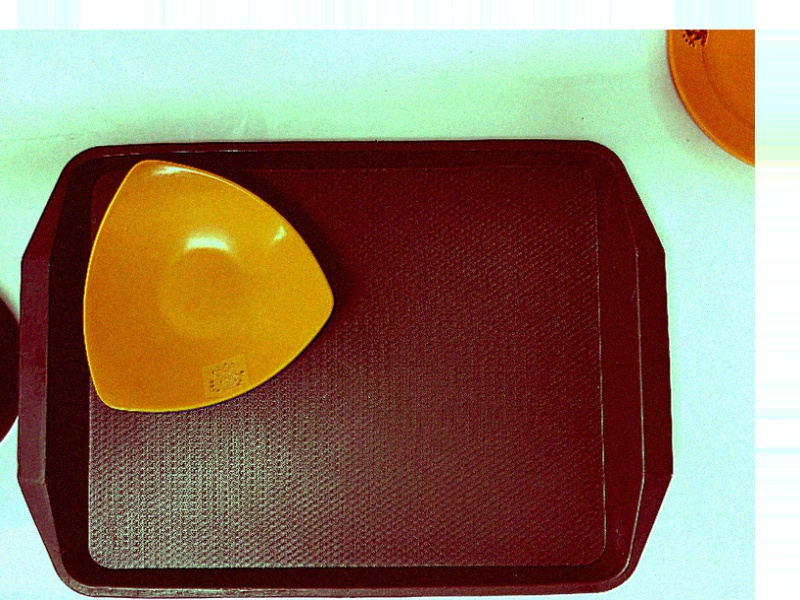dish11: (80, 153, 344, 416)
